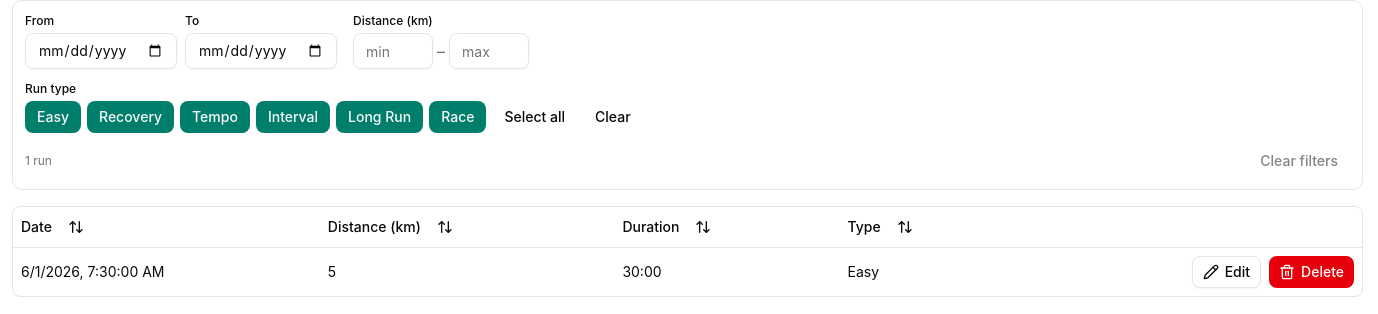
Scenario: RunList filtering › deselecting all types shows the no-match state without querying, and Select all restores
The width and height of the screenshot is (1378, 314).
Check: the button "Edit" is shown, box [1192,256,1261,288]
Click the button "Clear" at (613, 117), box [583,101,642,133]
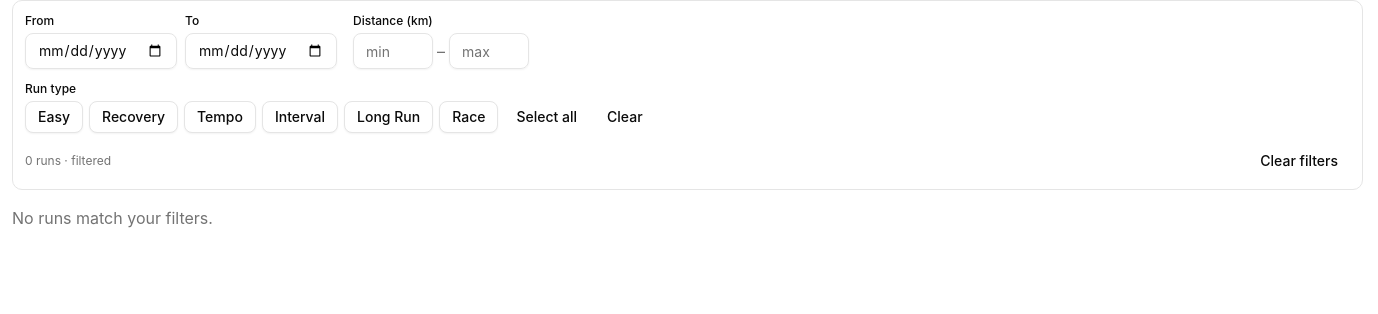
Check: the text "No runs match your filters." is shown, box [12,208,213,228]
Click the button "Select all" at (547, 117), box [504,101,589,133]
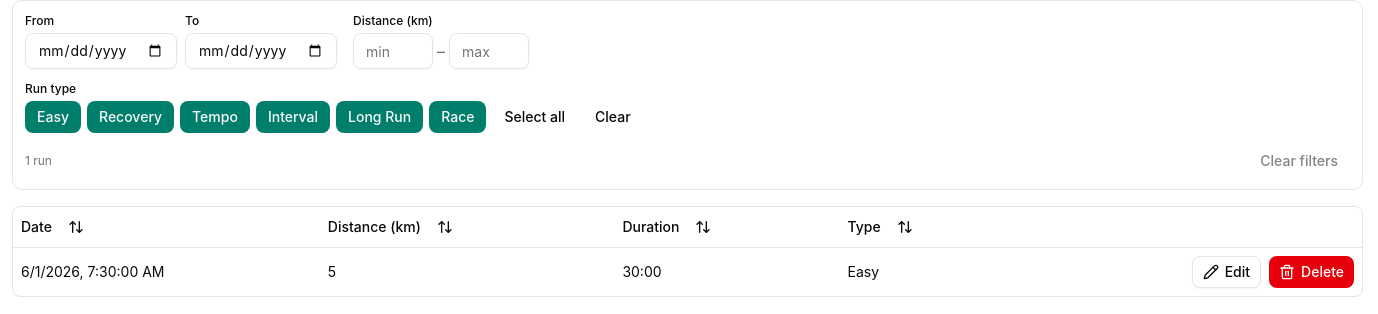
Check: the button "Edit" is shown, box [1192,256,1261,288]
